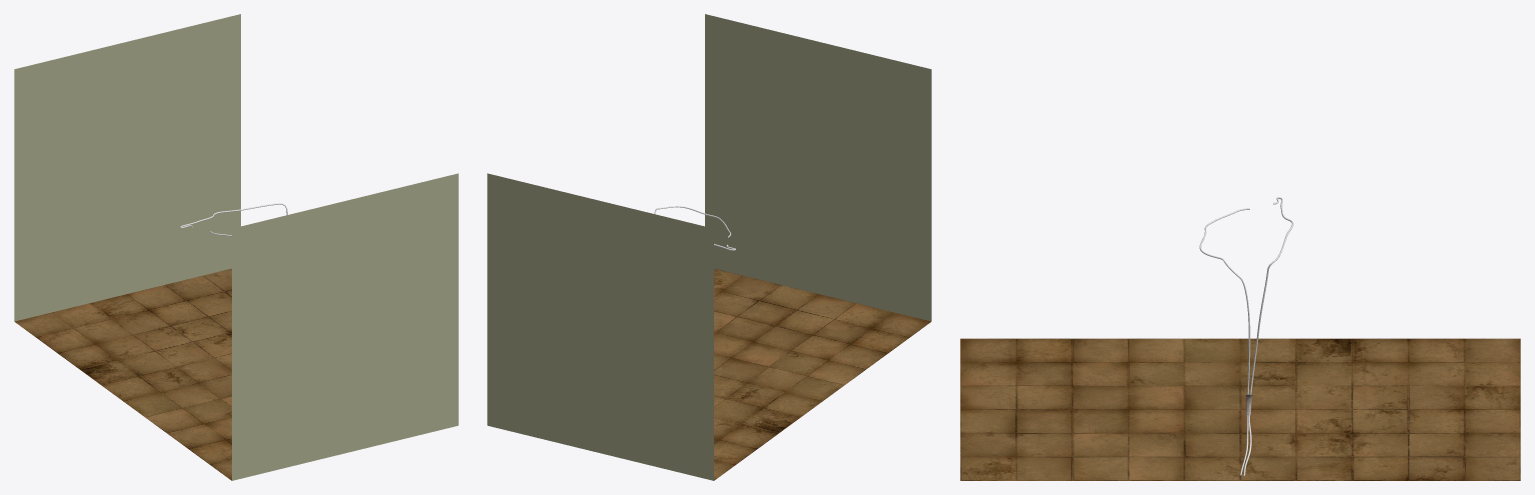
File: Internet Cafe Model.fbx
The picture shows the model from 3 angles, left to right: view 1: azimuth 30°, elevation 25°; view 2: azimuth 150°, elevation 25°; view 3: azimuth 270°, elevation 25°; orthographic projection. The views are drawn at different scales.
Visible parts, largest first — view 1: Plane.003, Plane.002, Plane.001; view 2: Plane.002, Plane.003, Plane.001; view 3: Plane.001, cable.017, cable.016.
Boxes of the visible parts, x1,y1,x2,y2 form: Plane.003: (232,173,458,480); Plane.002: (14,14,240,321); Plane.001: (15,268,231,480); Plane.002: (487,173,713,480); Plane.003: (705,14,931,321); Plane.001: (714,268,930,480); Plane.001: (960,338,1520,480); cable.017: (1199,208,1250,475); cable.016: (1243,197,1293,475).
Size of the model in its own units: 3168 by 3370 by 5269.
4 materials, 2 textured.
